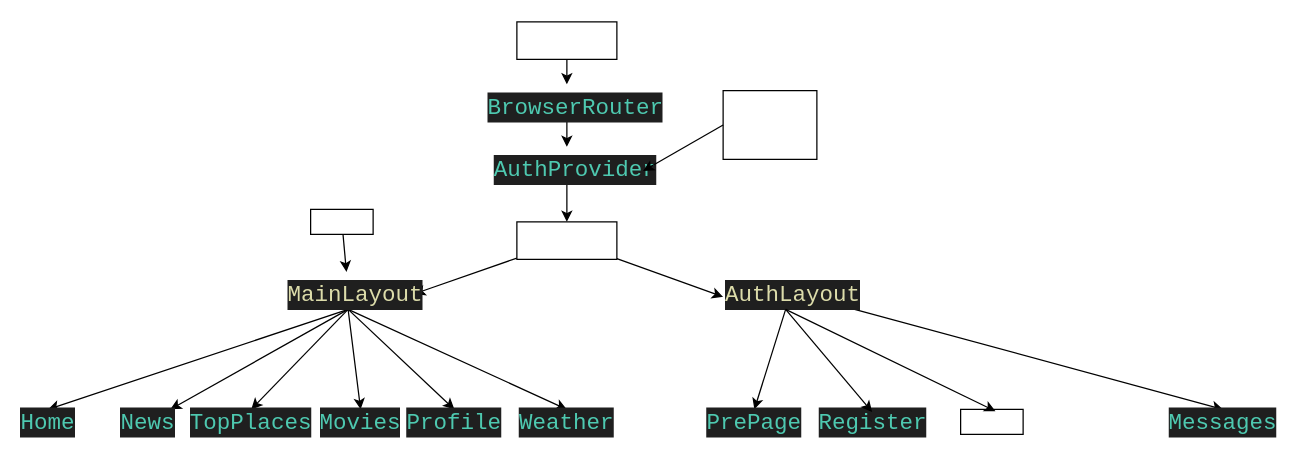
This 1299x459 diagram has some shape labels left out. Here are the shapes that lost their labels. From the top down, the centre of each, then its label:
At (566,40): "main".
At (769,124): "Load CurrentUser from localStorage".
At (341,221): "[posts]".
At (566,240): "App".
At (991,421): "Login".
